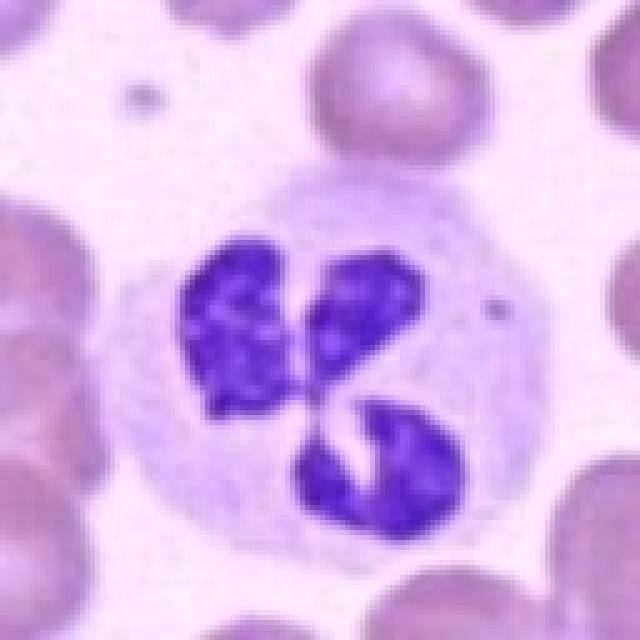neutro: (95, 134, 547, 606)
